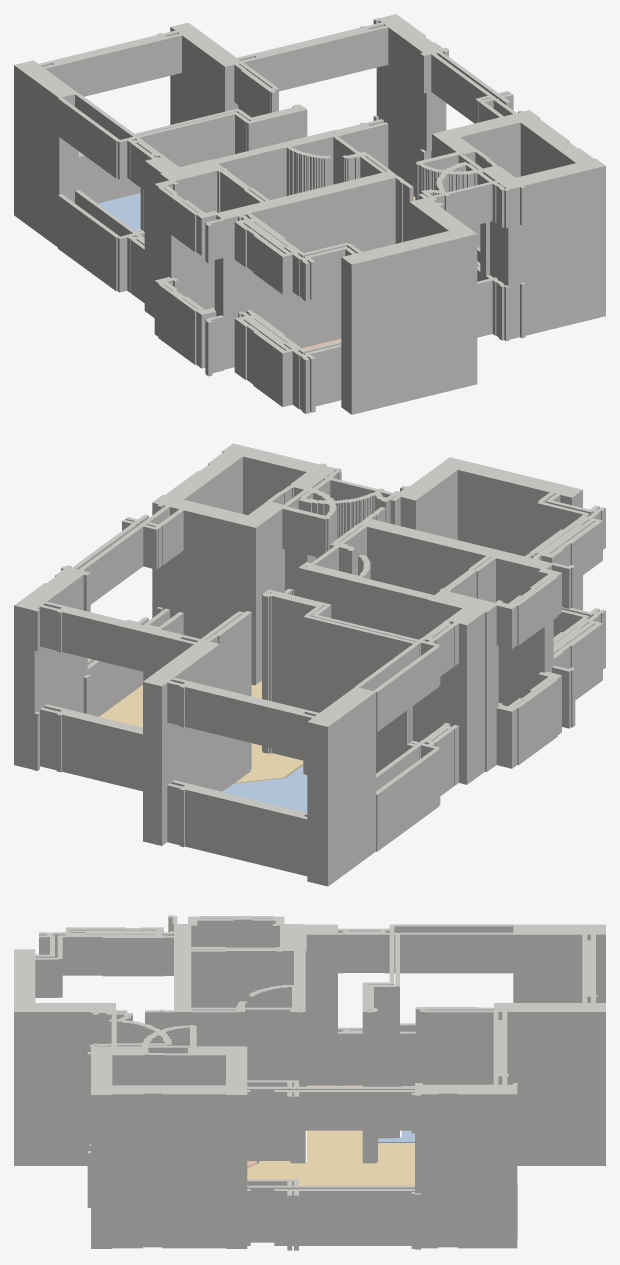
3 renders of one model, top to bottom at view 1: azimuth 30°, elevation 25°; view 2: azimuth 150°, elevation 25°; view 3: azimuth 270°, elevation 25°, orthographic. The views are drawn at different scales.
Visible parts, largest first — view 1: walls, room:bedroom:0; view 2: walls, room:living:1, room:bedroom:0; view 3: walls, room:living:1.
Part boxes in pixels (box(x1,y1,x2,y2)): walls: box(14, 14, 605, 414); room:bedroom:0: box(98, 193, 140, 230); walls: box(14, 443, 605, 886); room:living:1: box(99, 681, 303, 783); room:bedroom:0: box(222, 765, 307, 812); walls: box(14, 915, 605, 1250); room:living:1: box(247, 1085, 414, 1185).
Bounding box in the file's own units: 7.08 × 2.8 × 9.76.
